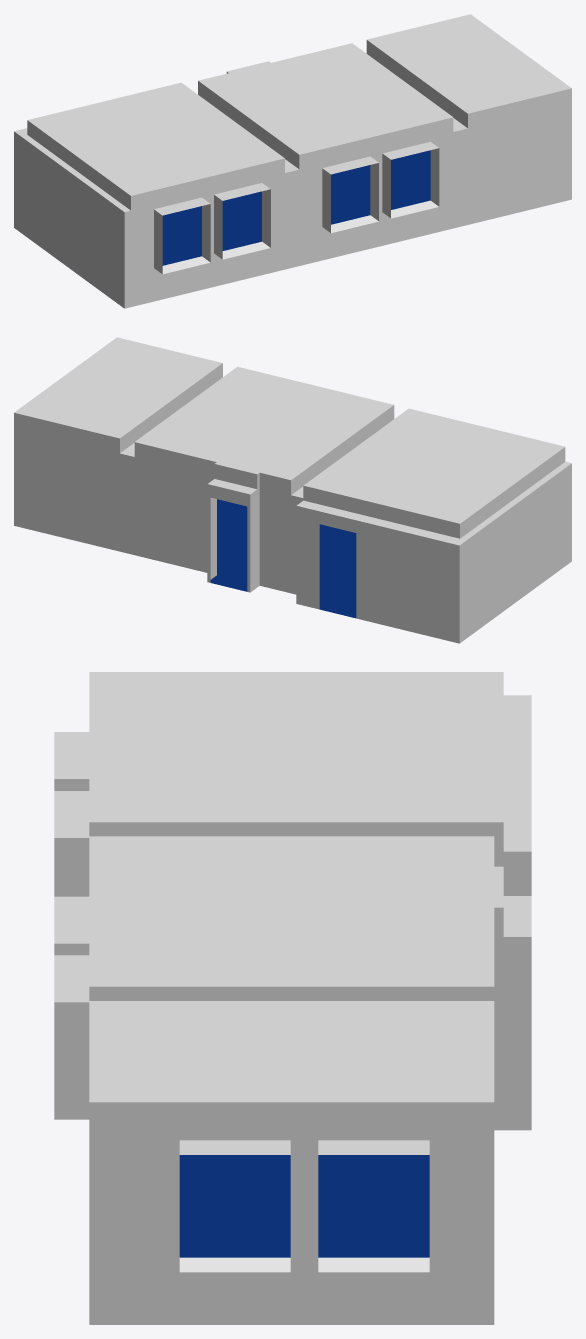
The model's file is patro1-A803.fbx.
3 renders of one model, top to bottom at view 1: azimuth 30°, elevation 25°; view 2: azimuth 150°, elevation 25°; view 3: azimuth 270°, elevation 25°, orthographic. The views are drawn at different scales.
Visible parts, largest first — view 1: A803.Top, A803.Front, A803.Left, A803.Bottom, A803.Right; view 2: A803.Top, A803.Back, A803.Left, A803.Bottom, A803.Right; view 3: A803.Top, A803.Right, A803.Bottom.
Boxes of the visible parts, left/top/right/bottom form: A803.Top: left=14, top=14, right=571, bottom=215; A803.Front: left=124, top=88, right=571, bottom=308; A803.Left: left=14, top=40, right=467, bottom=308; A803.Bottom: left=162, top=150, right=438, bottom=274; A803.Right: left=202, top=148, right=439, bottom=262; A803.Top: left=14, top=337, right=571, bottom=545; A803.Back: left=14, top=412, right=459, bottom=643; A803.Left: left=120, top=363, right=571, bottom=643; A803.Bottom: left=210, top=499, right=356, bottom=618; A803.Right: left=210, top=497, right=216, bottom=579; A803.Top: left=54, top=672, right=531, bottom=1154; A803.Right: left=54, top=779, right=531, bottom=1324; A803.Bottom: left=179, top=1155, right=429, bottom=1272.
Bounding box in the file's own units: 1153 × 265 × 515.
